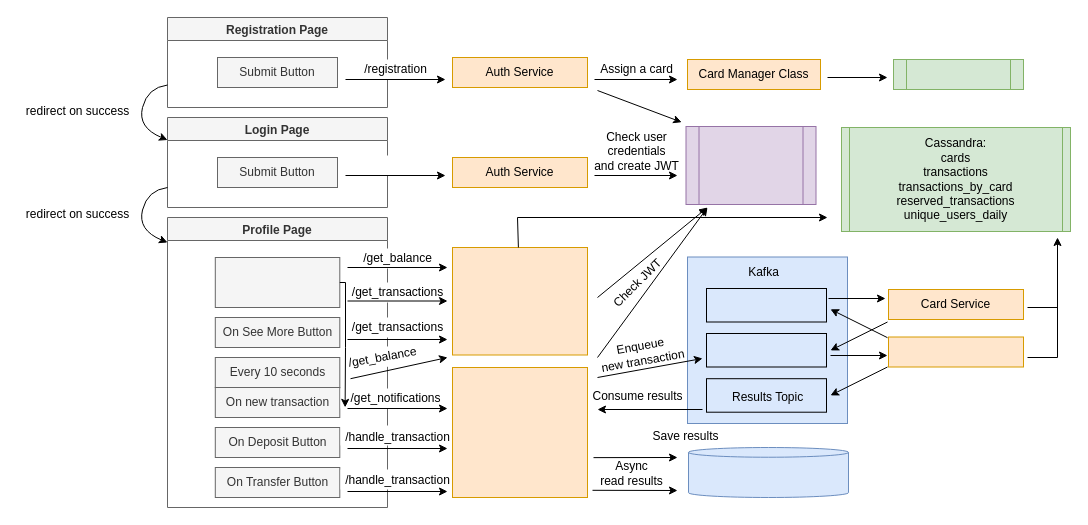
Image size: 1088x525. Some labels were removed from this diagram. Here are the shapes that lost their labels. From the top down, the centre of each, then its label:
pixel 958 74: Cassandra: cards
pixel 395 165: /login
pixel 750 165: MongoDB: roles users registration_cards
pixel 277 282: On Page Load
pixel 520 300: Account Service
pixel 766 305: Card Service Topic
pixel 766 349: Transactions Topic
pixel 956 351: Transaction Service
pixel 520 432: Orchestration Service
pixel 768 472: S3 Bucket
